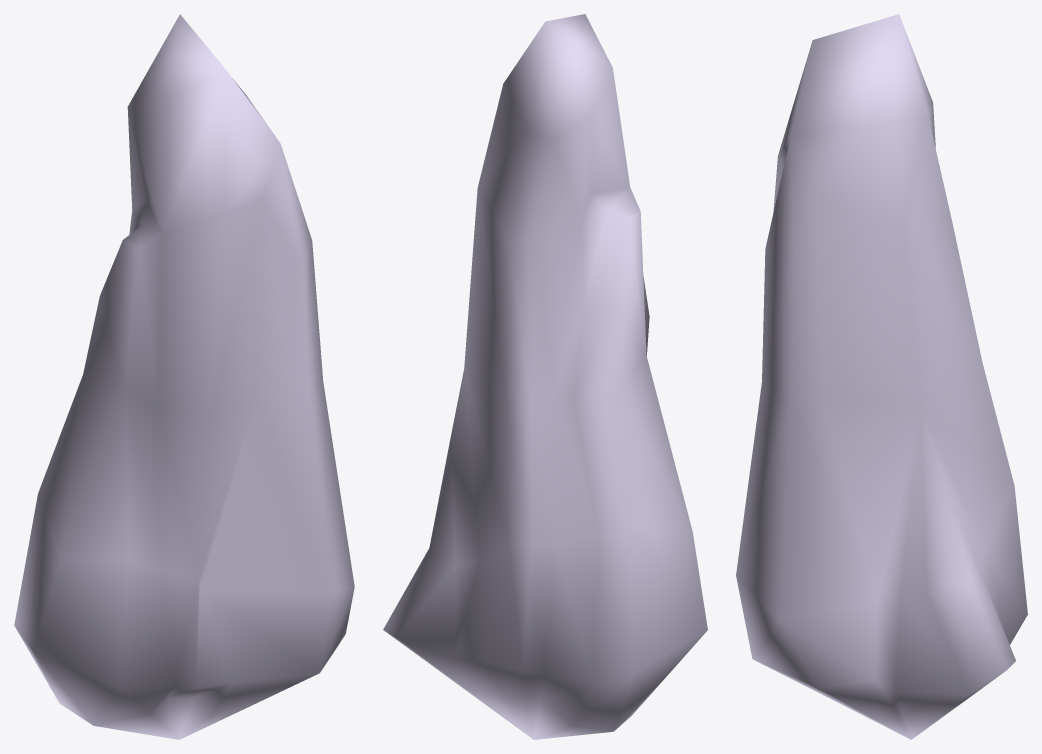
3 renders of one model, left to right at view 1: azimuth 30°, elevation 25°; view 2: azimuth 150°, elevation 25°; view 3: azimuth 270°, elevation 25°, orthographic. The views are drawn at different scales.
Parts seen in each view (by area): view 1: Object53; view 2: Object53; view 3: Object53.
Part boxes in pixels (bbox=[...]): Object53: bbox=[14, 14, 354, 739]; Object53: bbox=[383, 14, 707, 739]; Object53: bbox=[736, 14, 1027, 739].
Size of the model in its own units: 195 by 485 by 177.
